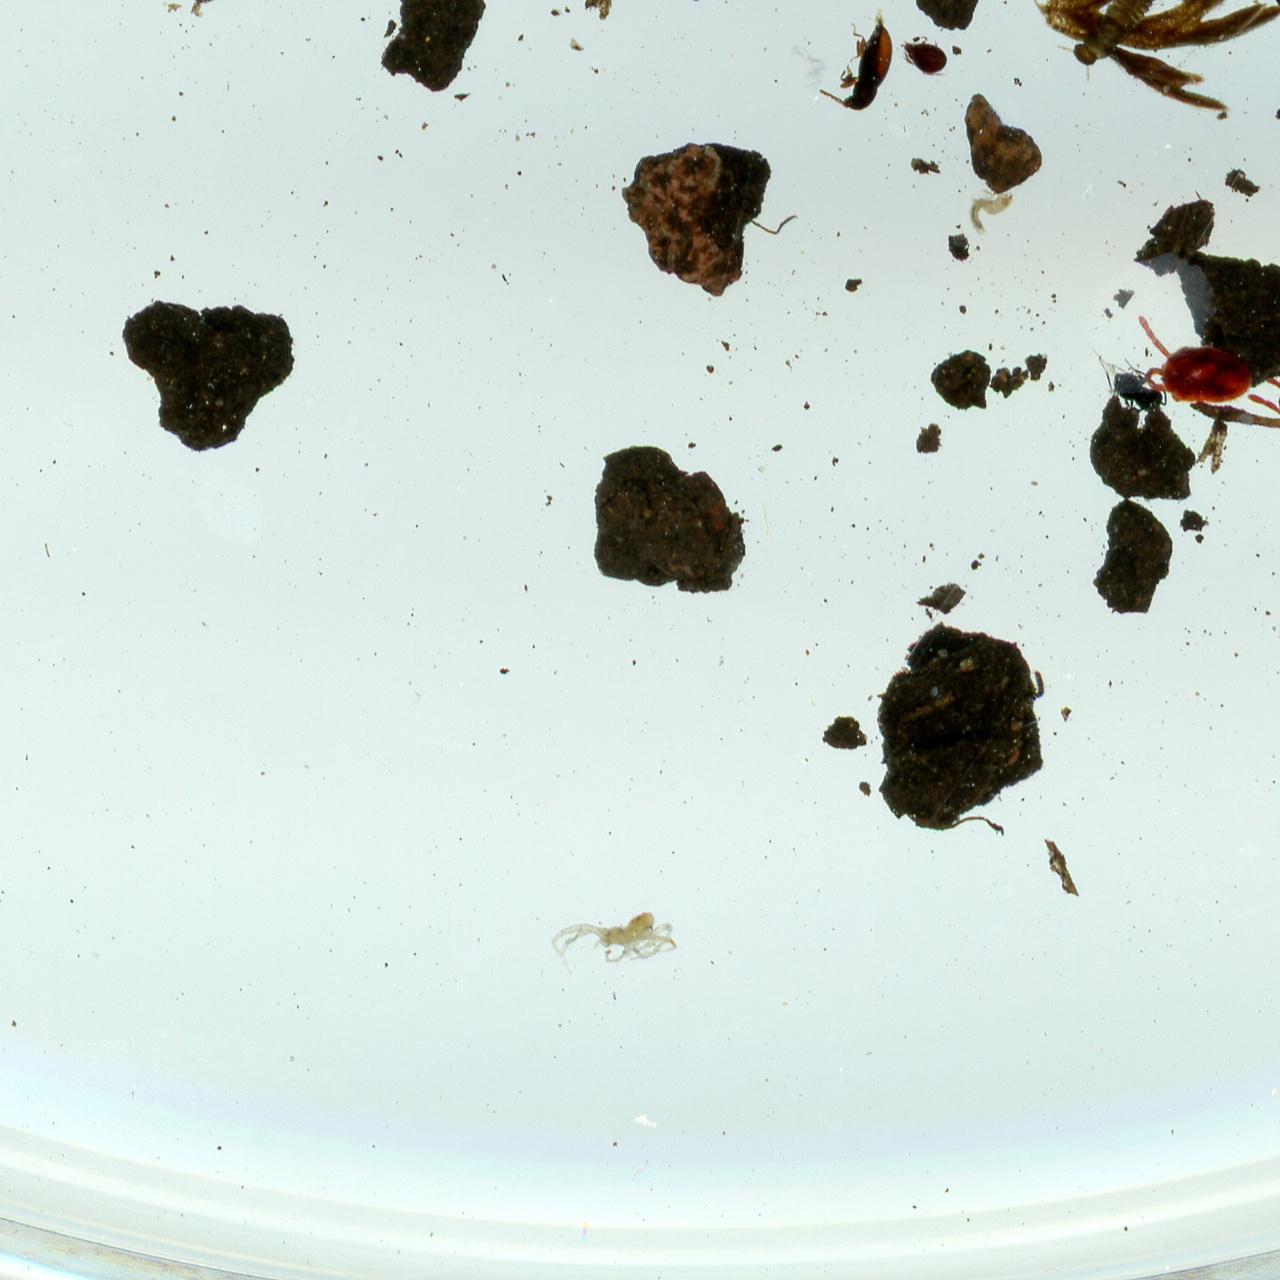arthropod: (1050, 0, 1217, 88), (1131, 301, 1252, 408), (1078, 326, 1176, 429), (547, 906, 682, 976), (816, 9, 896, 113), (1238, 349, 1280, 465), (900, 34, 952, 79)
